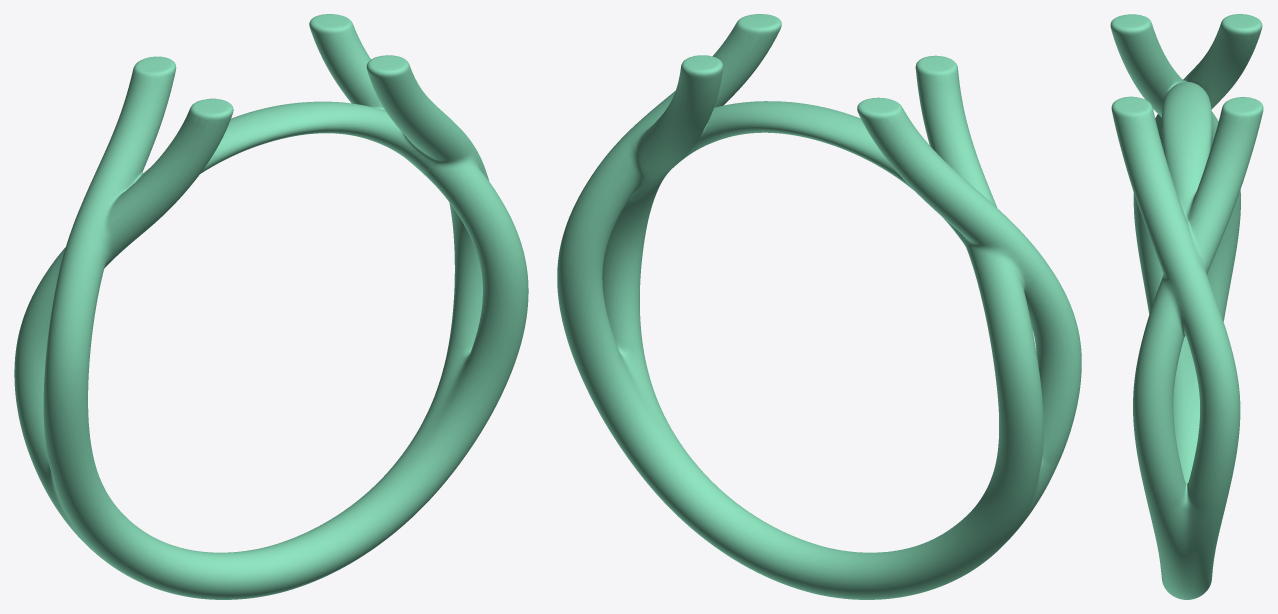
The picture shows the model from 3 angles, left to right: view 1: azimuth 30°, elevation 25°; view 2: azimuth 150°, elevation 25°; view 3: azimuth 270°, elevation 25°; orthographic projection. The views are drawn at different scales.
Visible parts, largest first — view 1: Metal02; view 2: Metal02; view 3: Metal02.
Part boxes in pixels (x1=…): Metal02: x1=14, y1=14, x2=528, y2=599; Metal02: x1=557, y1=14, x2=1081, y2=599; Metal02: x1=1110, y1=14, x2=1263, y2=599.
Size of the model in its own units: 21.24 by 22.14 by 5.98.
